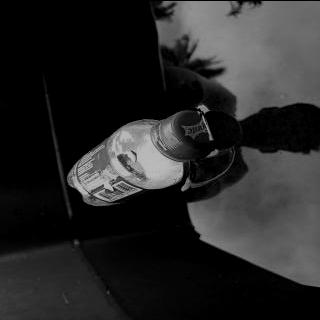bottle: (63, 108, 213, 206)
